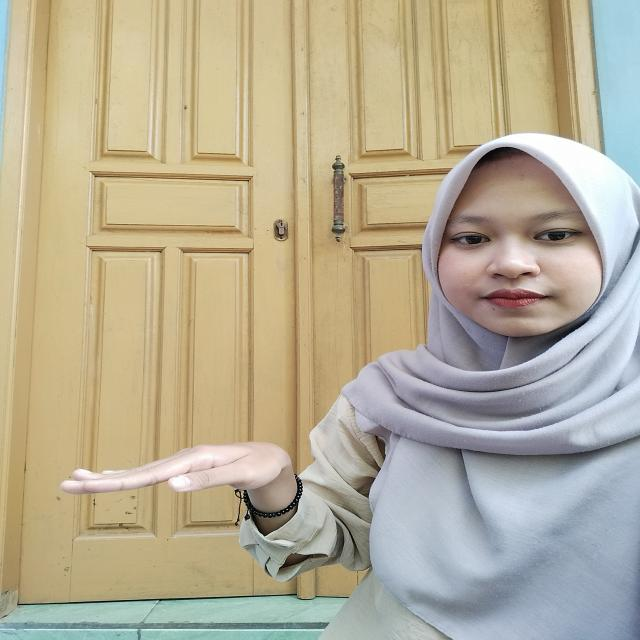adik: (37, 432, 325, 531)
